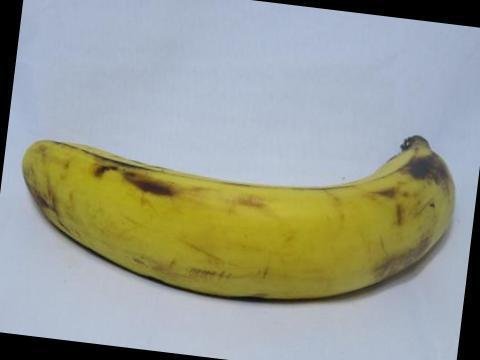ripe: (14, 96, 479, 332)
